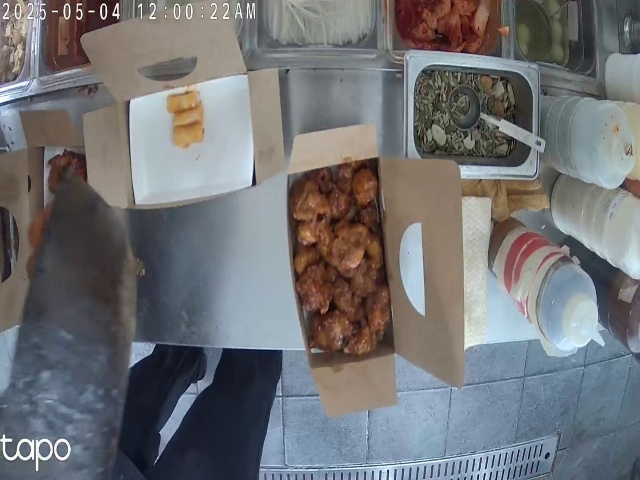delivery box: (288, 129, 451, 406), (86, 17, 274, 204), (1, 108, 89, 344)
food: (284, 172, 395, 354), (167, 94, 206, 143), (41, 153, 81, 182)
